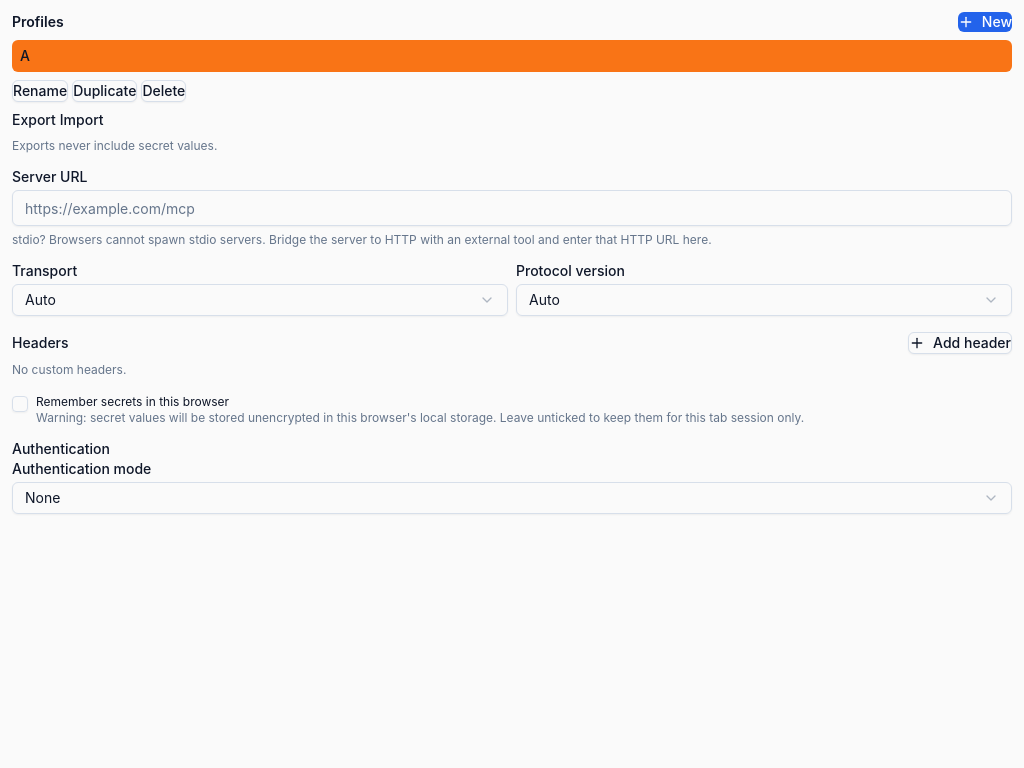
it: connection fields › validates the URL live: bad -> inline reason, good -> none
The width and height of the screenshot is (1024, 768).
Type "ftp://x.test" into the field labelled "Server URL" at (512, 208), box top-left (12, 190), bottom-right (1012, 226)
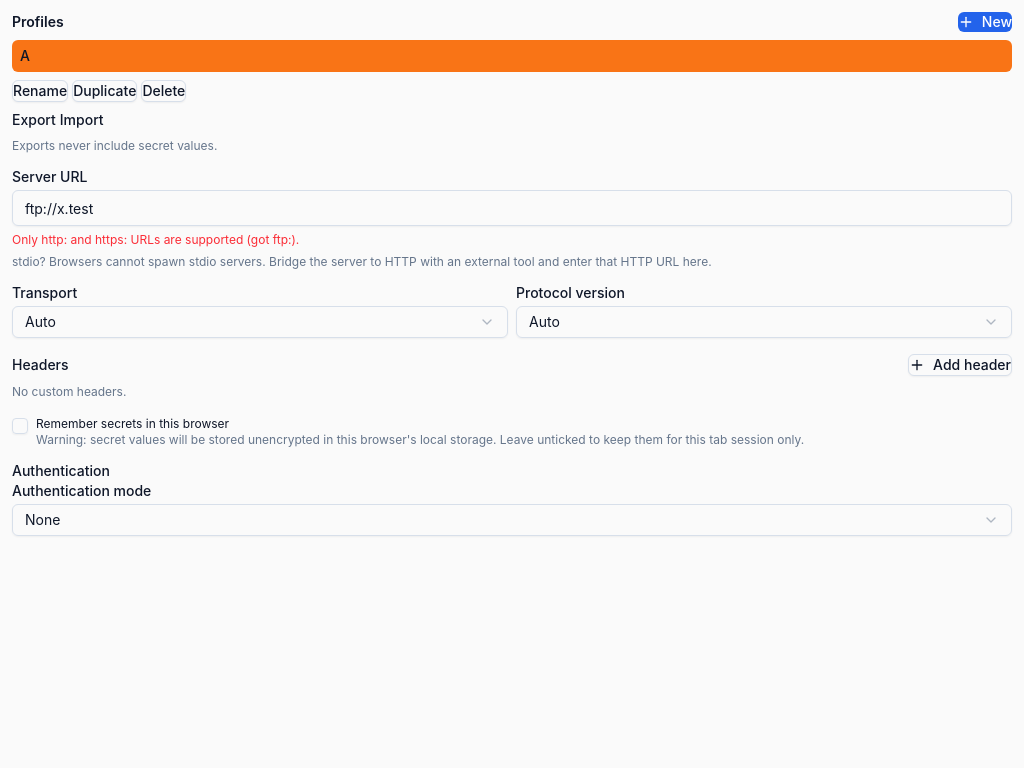
Expected: the message shows "http", top-left (12, 232), bottom-right (299, 247)
Replace the text in the field labelled "Server URL" with "https://user:pw@x.test/" at (512, 208), box top-left (12, 190), bottom-right (1012, 226)
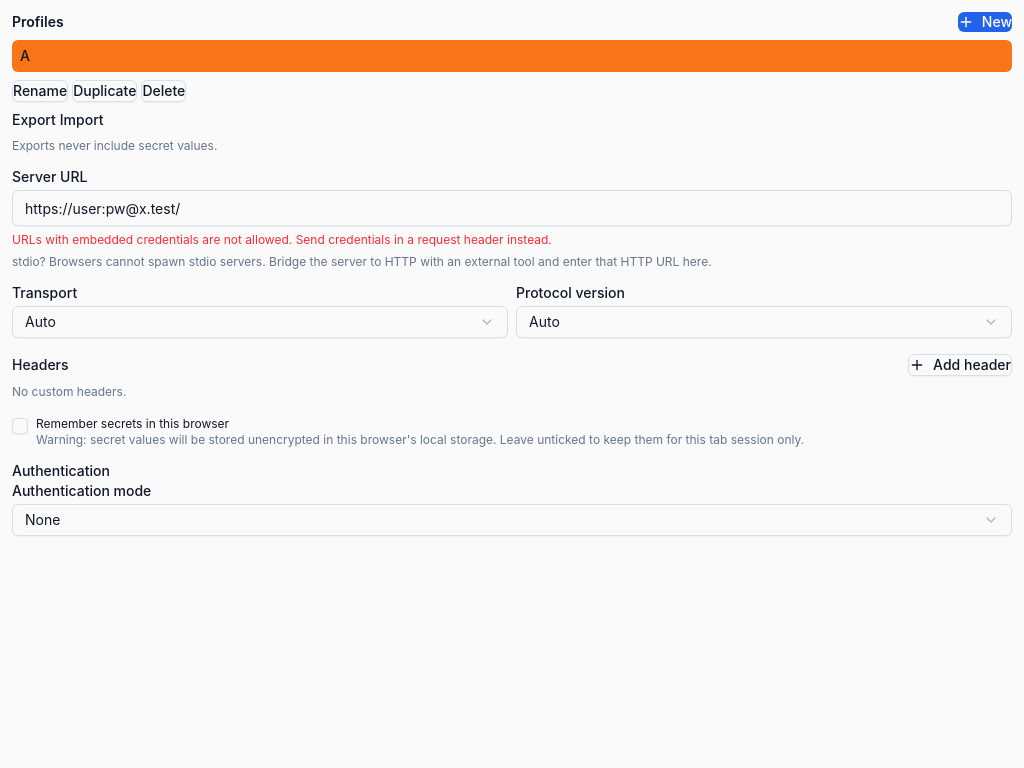
Expected: the message shows "credentials", top-left (12, 232), bottom-right (552, 247)
Replace the text in the field labelled "Server URL" with "https://x.test/mcp" at (512, 208), box top-left (12, 190), bottom-right (1012, 226)
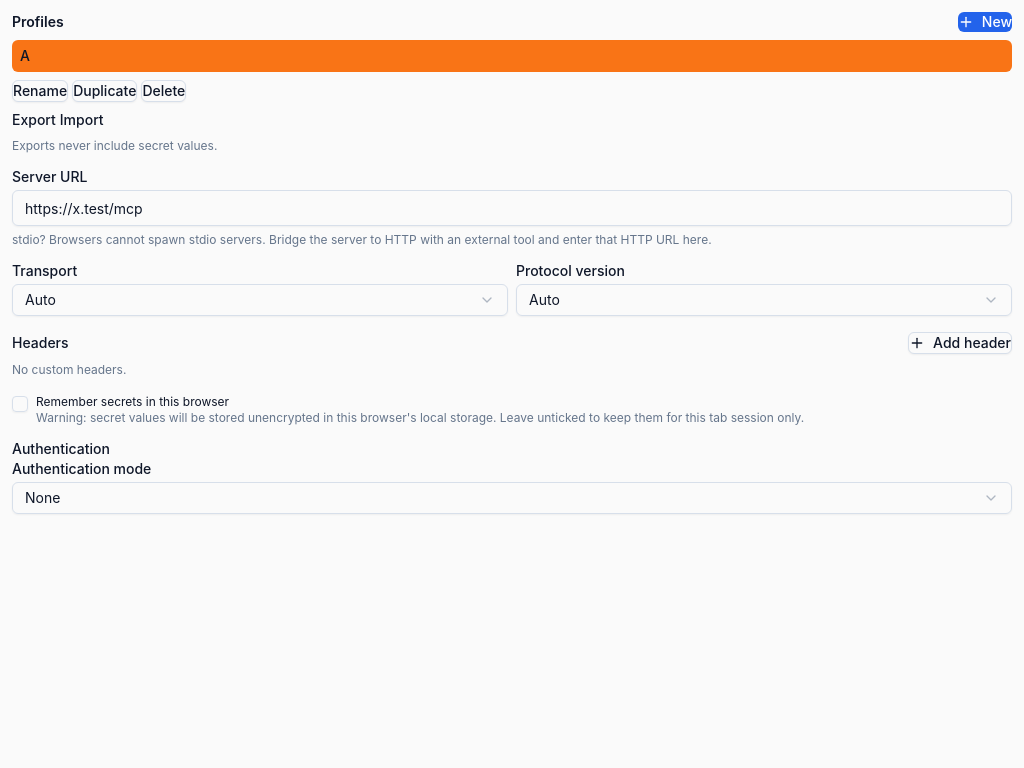
Expected: the message is gone
